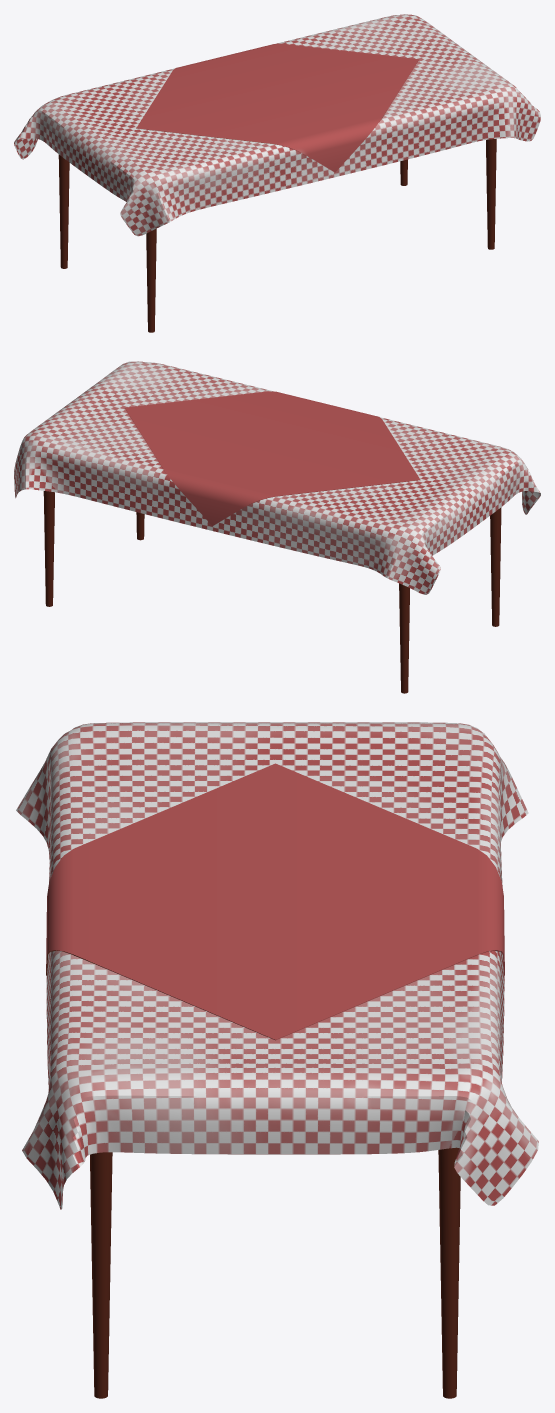
Rendered from WhiteBox Dining Table. 02.fbx.
3 views of the same model, one above another, from view 1: azimuth 30°, elevation 25°; view 2: azimuth 150°, elevation 25°; view 3: azimuth 270°, elevation 25° (orthographic). The views are drawn at different scales.
Parts seen in each view (by area): view 1: Table Top; view 2: Table Top; view 3: Table Top.
Boxes of the visible parts, x1,y1,x2,y2 form: Table Top: (14, 14, 540, 332); Table Top: (14, 361, 540, 693); Table Top: (16, 722, 538, 1398).
Size of the model in its own units: 213 by 79.54 by 114.
